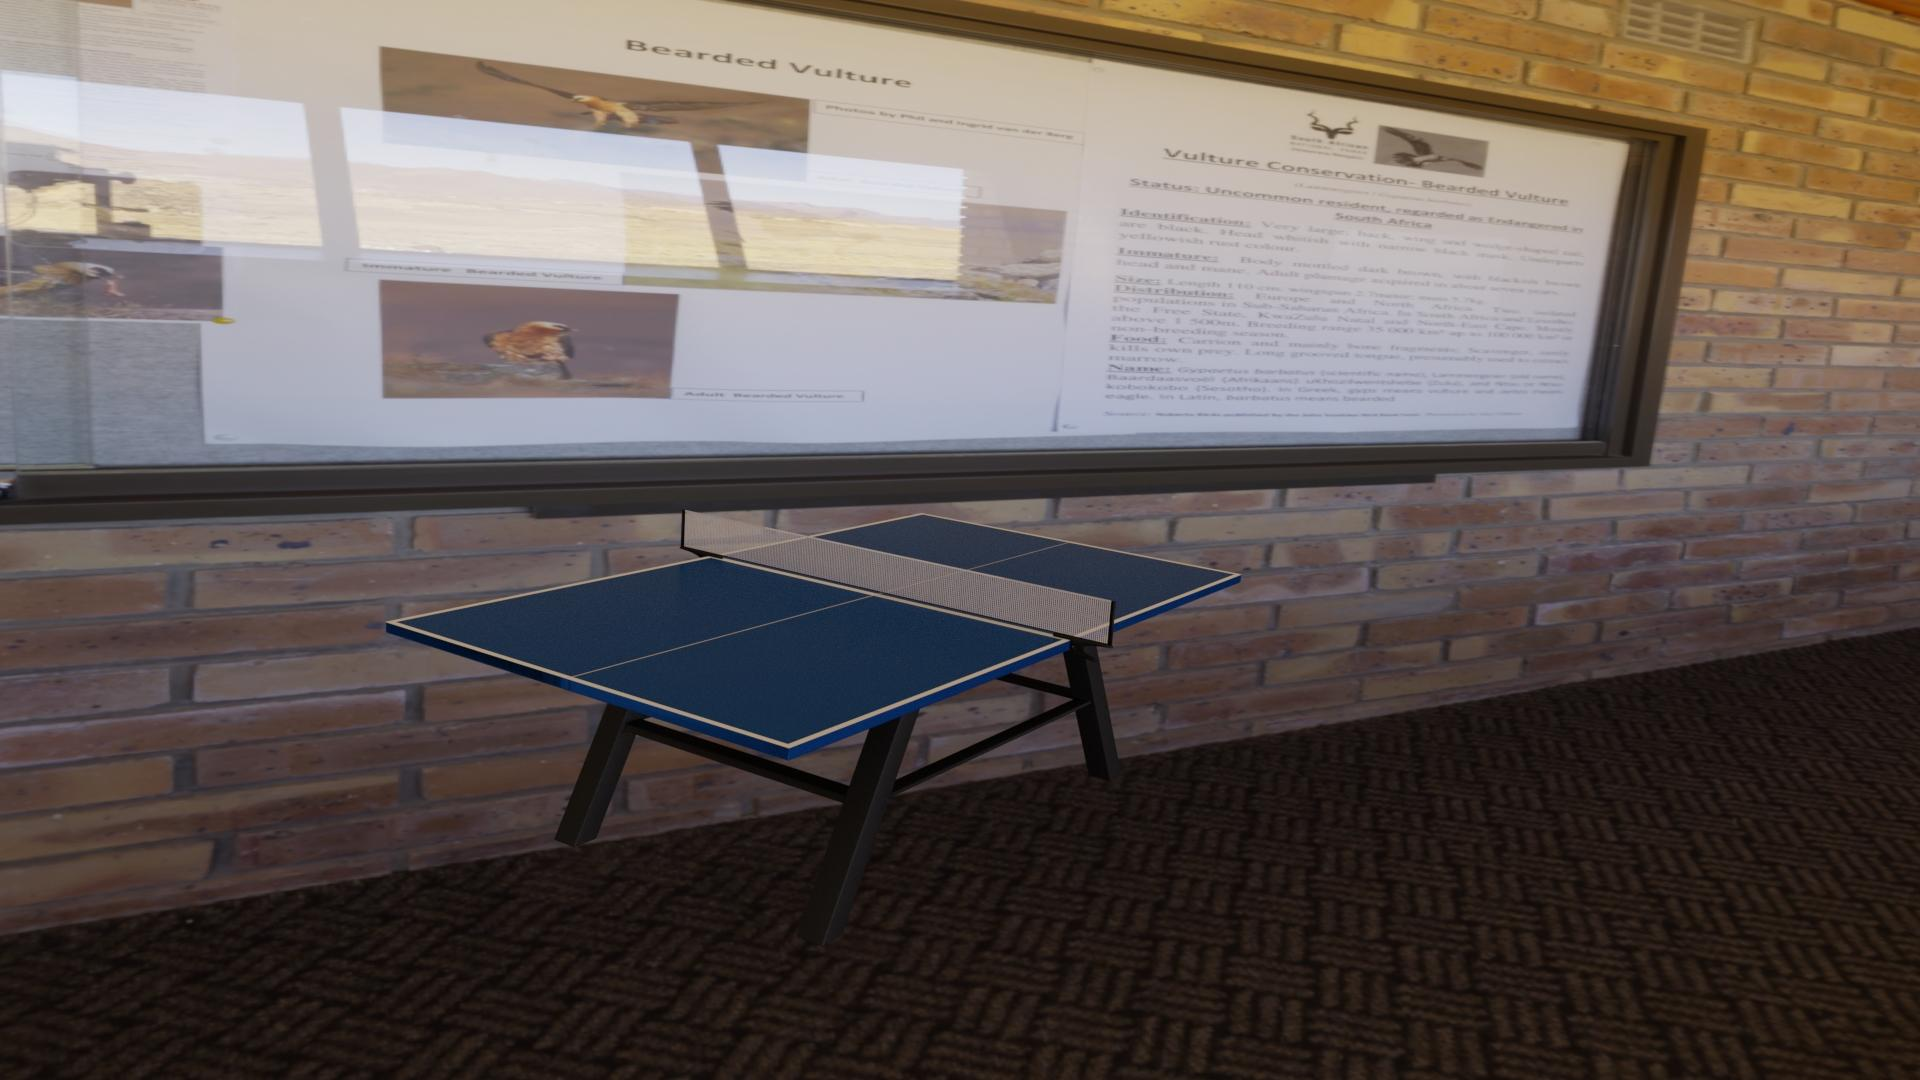table: (395, 514, 1235, 744)
